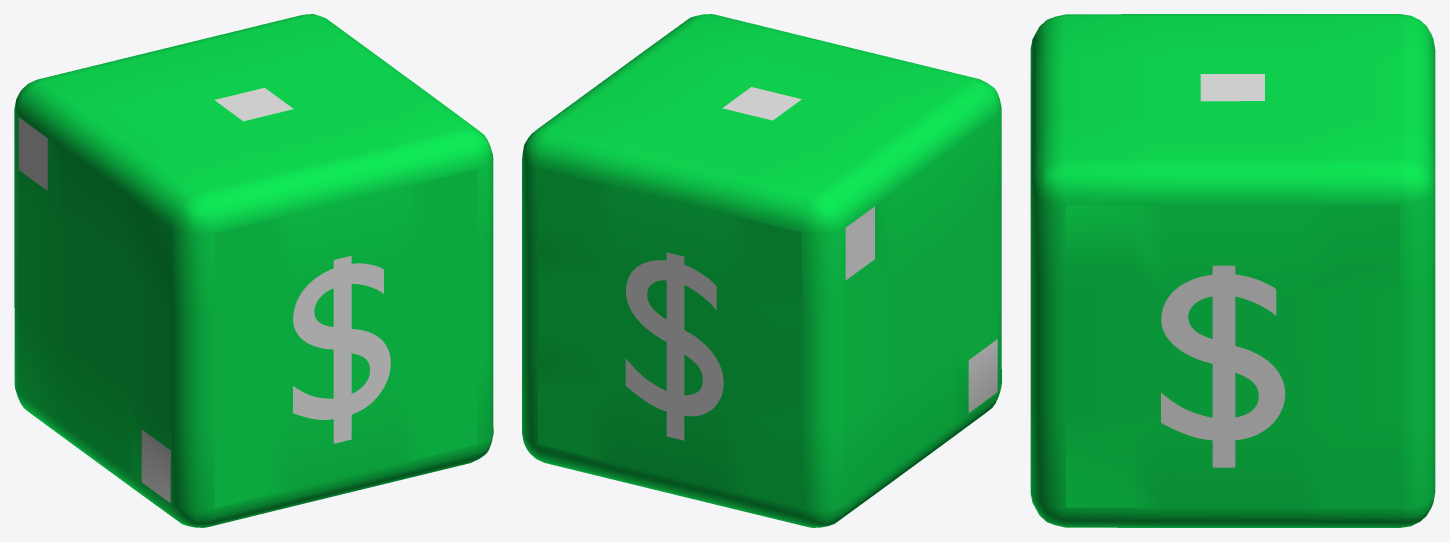
The model's file is DebtDice4.fbx.
3 renders of one model, left to right at view 1: azimuth 30°, elevation 25°; view 2: azimuth 150°, elevation 25°; view 3: azimuth 270°, elevation 25°, orthographic. The views are drawn at different scales.
Parts seen in each view (by area): view 1: Debt; view 2: Debt; view 3: Debt.
Boxes of the visible parts, <box> form: Debt: <box>14,14,493,527</box>; Debt: <box>522,14,1001,527</box>; Debt: <box>1030,14,1435,527</box>.
Bounding box in the file's own units: 200 × 200 × 200.
